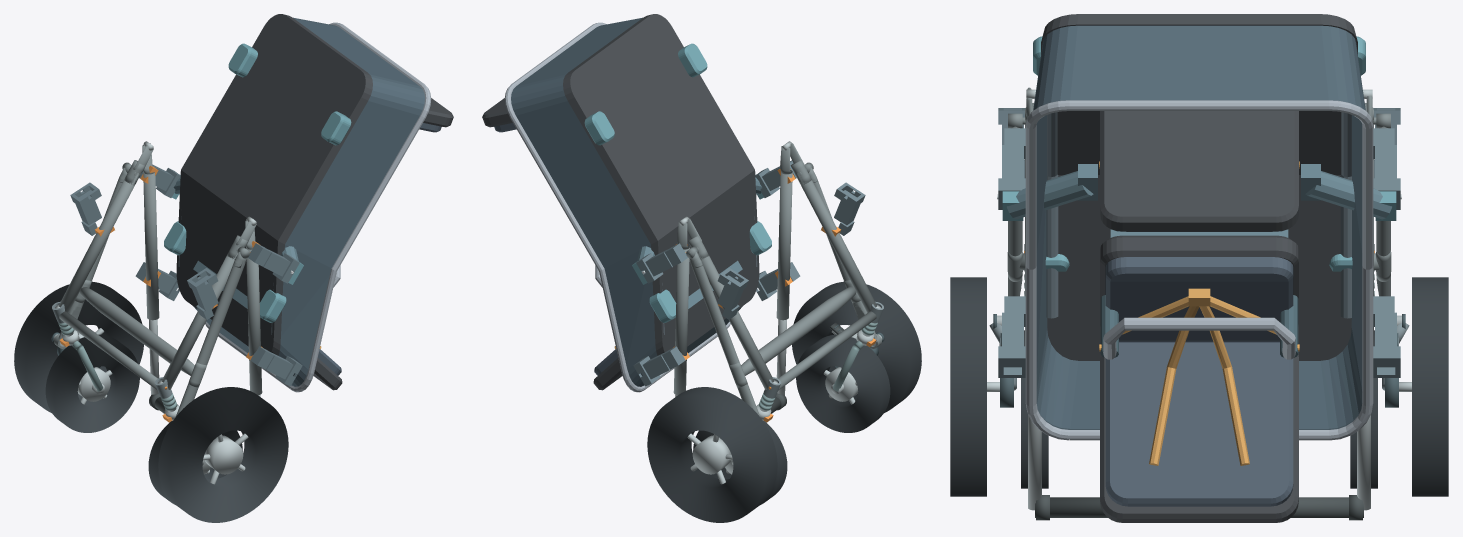
The model's file is S11_w650_state3_wheel_L.glb.
3 renders of one model, left to right at view 1: azimuth 30°, elevation 25°; view 2: azimuth 150°, elevation 25°; view 3: azimuth 270°, elevation 25°, orthographic. The views are drawn at different scales.
Visible parts, largest first — view 1: S11_Cabin, RL_tire.008, FR_tire.008, RR_tire.008, V46_rearbar.009, main_lower_1.009, main_upper_1.009, V46_rear_leg_-1.009, main_upper_-1.009, main_lower_-1.009, front_fixed_round_tube.008, RL_sealed_hub.008 (+9 smaller); view 2: S11_Cabin, RR_tire.008, FL_tire.008, RL_tire.008, V46_rearbar.009, main_upper_-1.009, main_lower_-1.009, V46_rear_leg_1.009, main_upper_1.009, main_lower_1.009, front_fixed_round_tube.008, RR_sealed_hub.008 (+9 smaller); view 3: S11_Cabin, RL_tire.008, RR_tire.008, S11_Cabin_Mount_M, round_handle.008, Universal_Cabin_Receiver_H_1, Universal_Cabin_Receiver_H_-1, Universal_Cabin_Receiver_M_1, Universal_Cabin_Receiver_M_-1, handle_slider_1.008, handle_slider_-1.008, FL_tire.008 (+3 smaller).
Part boxes in pixels (bbox=[...]): S11_Cabin: bbox=[164, 14, 453, 392]; RL_tire.008: bbox=[158, 387, 288, 522]; FR_tire.008: bbox=[45, 334, 139, 432]; RR_tire.008: bbox=[14, 281, 143, 412]; V46_rearbar.009: bbox=[79, 287, 194, 375]; main_lower_1.009: bbox=[59, 173, 138, 312]; main_upper_1.009: bbox=[143, 173, 159, 320]; V46_rear_leg_-1.009: bbox=[175, 258, 245, 416]; main_upper_-1.009: bbox=[246, 247, 262, 395]; main_lower_-1.009: bbox=[162, 253, 237, 389]; front_fixed_round_tube.008: bbox=[59, 311, 157, 390]; RL_sealed_hub.008: bbox=[204, 435, 243, 474]; S11_Cabin: bbox=[482, 14, 771, 392]; RR_tire.008: bbox=[647, 387, 777, 522]; FL_tire.008: bbox=[796, 334, 890, 432]; RL_tire.008: bbox=[792, 281, 921, 412]; V46_rearbar.009: bbox=[741, 287, 856, 375]; main_upper_-1.009: bbox=[776, 172, 792, 320]; main_lower_-1.009: bbox=[797, 173, 876, 312]; V46_rear_leg_1.009: bbox=[690, 258, 760, 416]; main_upper_1.009: bbox=[673, 247, 689, 395]; main_lower_1.009: bbox=[698, 253, 773, 389]; front_fixed_round_tube.008: bbox=[778, 311, 876, 390]; RR_sealed_hub.008: bbox=[692, 435, 731, 474]; S11_Cabin: bbox=[1025, 14, 1373, 522]; RL_tire.008: bbox=[950, 277, 986, 496]; RR_tire.008: bbox=[1412, 277, 1448, 496]; S11_Cabin_Mount_M: bbox=[997, 164, 1401, 220]; round_handle.008: bbox=[1035, 497, 1363, 517]; Universal_Cabin_Receiver_H_1: bbox=[1373, 296, 1400, 377]; Universal_Cabin_Receiver_H_-1: bbox=[998, 296, 1025, 377]; Universal_Cabin_Receiver_M_1: bbox=[1373, 128, 1400, 209]; Universal_Cabin_Receiver_M_-1: bbox=[998, 128, 1025, 209]; handle_slider_1.008: bbox=[1357, 415, 1370, 510]; handle_slider_-1.008: bbox=[1028, 415, 1041, 510]; FL_tire.008: bbox=[1021, 330, 1048, 488].
Bounding box in the file's own units: 1.02 × 1.1 × 0.8171.
